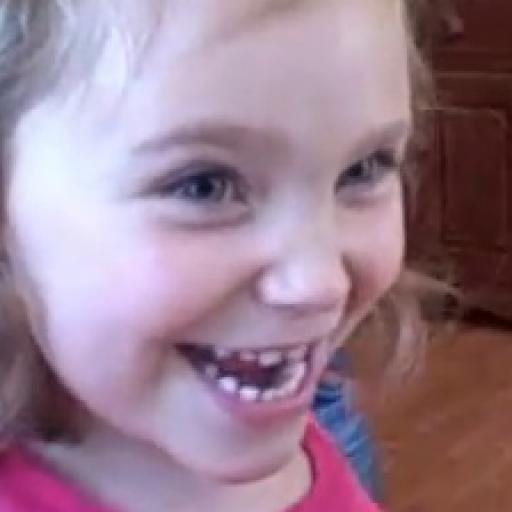Autism: (60, 28, 474, 512)
